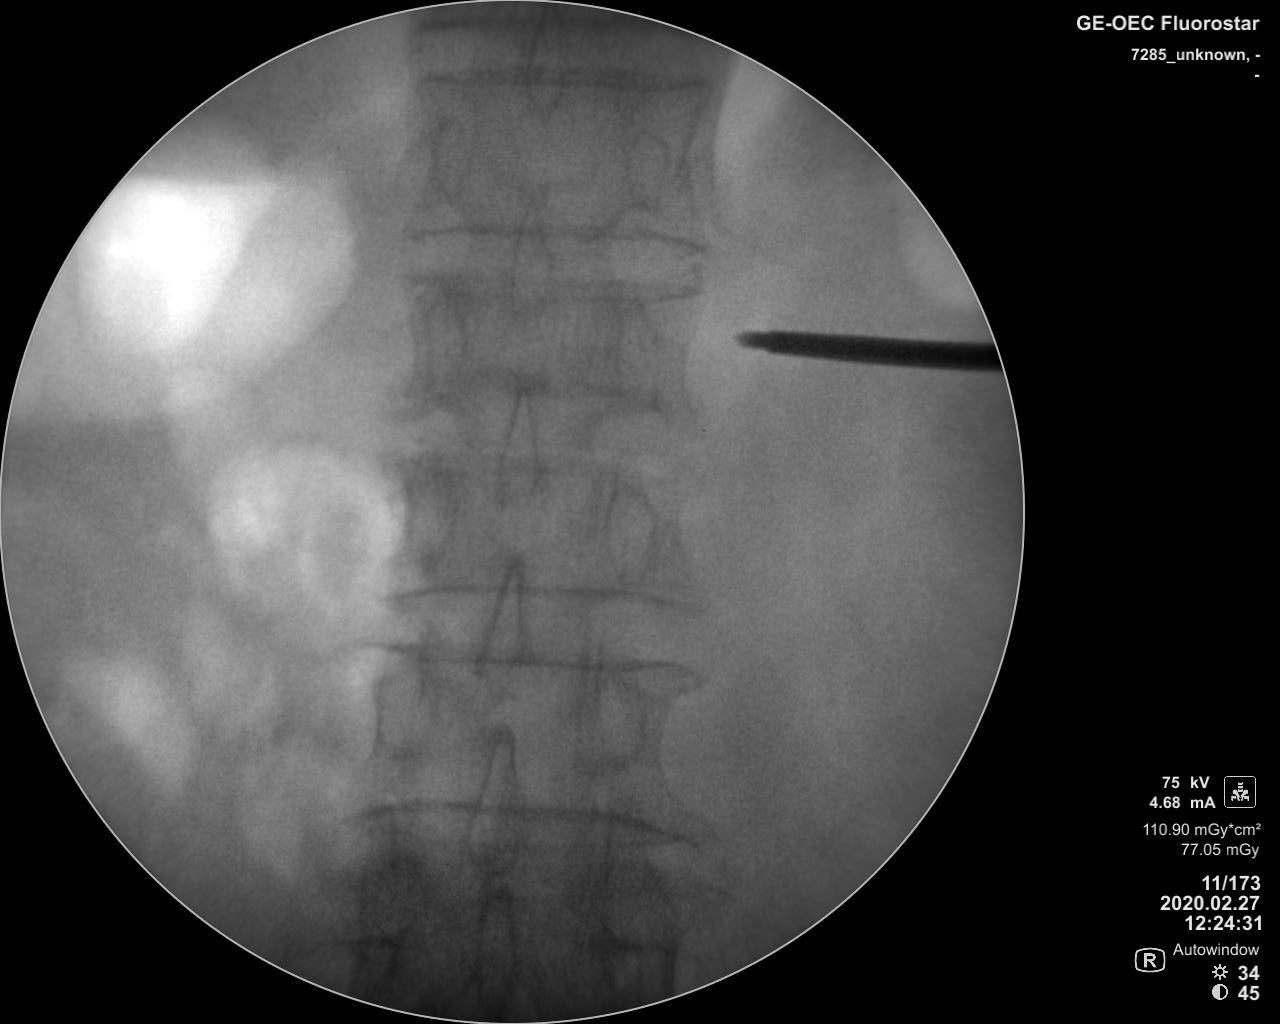eyes: (573, 671, 647, 776), (389, 465, 457, 569), (597, 478, 660, 586), (609, 299, 665, 419), (376, 658, 430, 768), (419, 111, 475, 207), (418, 298, 467, 397), (620, 121, 673, 211)
line: (356, 792, 702, 856), (390, 267, 703, 310), (402, 215, 716, 255), (382, 642, 703, 678), (406, 66, 726, 99), (376, 583, 703, 614)
nose: (462, 728, 528, 876), (491, 375, 544, 514), (504, 196, 558, 331), (472, 558, 523, 699), (469, 886, 522, 1013), (520, 3, 571, 130)
